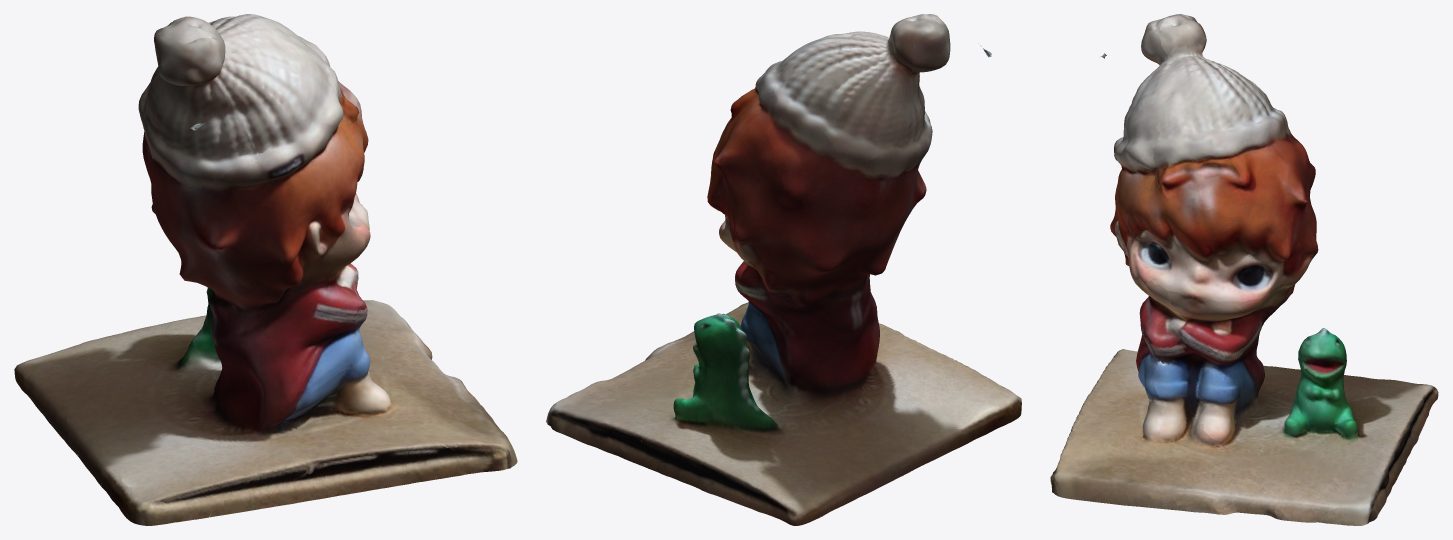
The model's file is asset.glb.
3 views of the same model, side by side, from view 1: azimuth 30°, elevation 25°; view 2: azimuth 150°, elevation 25°; view 3: azimuth 270°, elevation 25° (orthographic). The views are drawn at different scales.
Visible parts, largest first — view 1: Mesh_0.001; view 2: Mesh_0.001; view 3: Mesh_0.001.
Boxes of the visible parts, x1,y1,x2,y2 form: Mesh_0.001: (14, 14, 517, 525); Mesh_0.001: (546, 14, 1021, 525); Mesh_0.001: (1050, 14, 1438, 525).
Bounding box in the file's own units: 0.7208 × 0.79 × 0.7217.
Materials: 1 (1 with a texture image).
